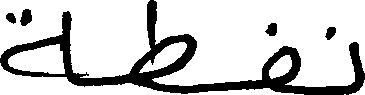ة: (0, 6, 71, 82)
ط: (127, 0, 197, 94)
ف: (258, 20, 299, 92)
ن: (321, 24, 363, 93)
